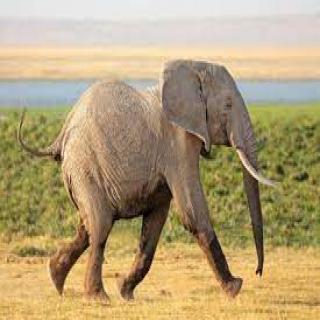Elephant: (18, 56, 280, 306)
